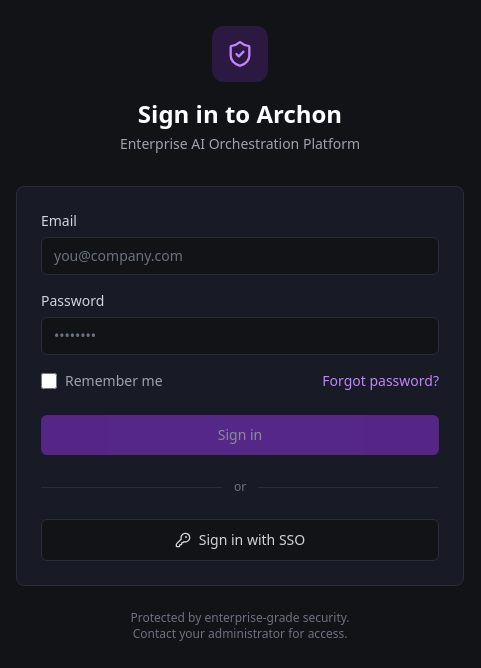
Test: LoginPage › shows password required error on blur when empty
Step 1. Click the password field labelled "Password" → [240, 336], box [41, 317, 439, 355]
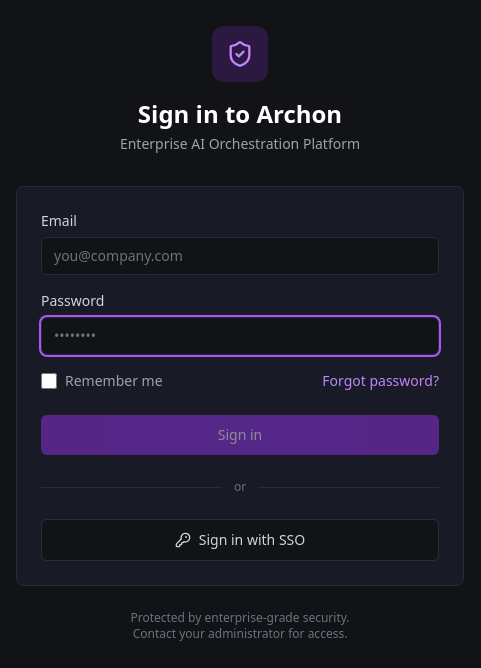
Step 2. Press Tab
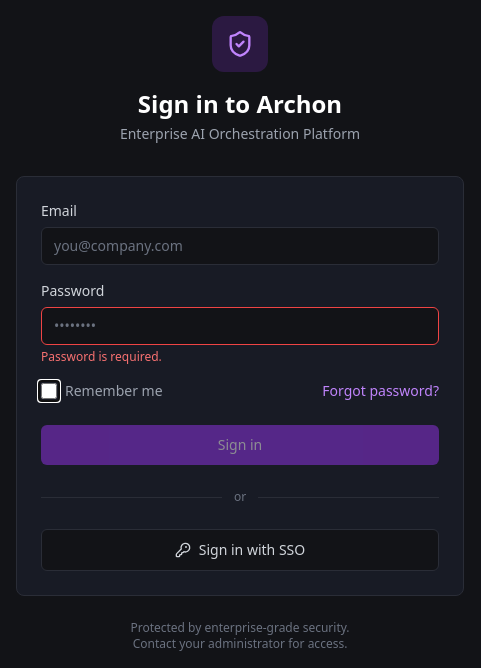
Expected: the text "Password is required." is shown, [41, 348, 162, 365]
